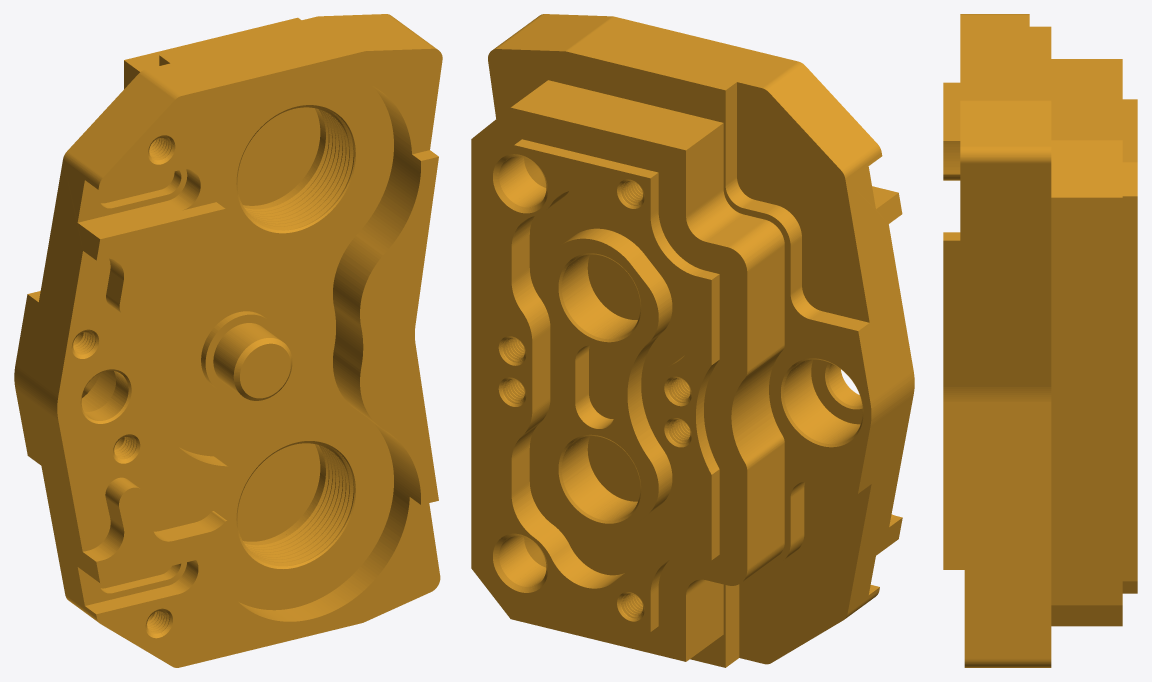
3 views of the same model, side by side, from view 1: azimuth 30°, elevation 25°; view 2: azimuth 150°, elevation 25°; view 3: azimuth 270°, elevation 25° (orthographic). The views are drawn at different scales.
Bounding box in the file's own units: 97.3 × 140 × 45.
